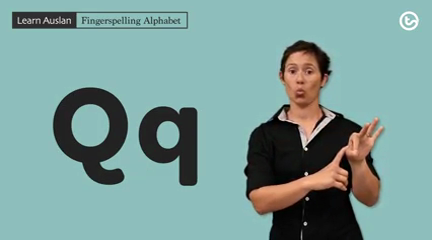P: (311, 116, 387, 192)
